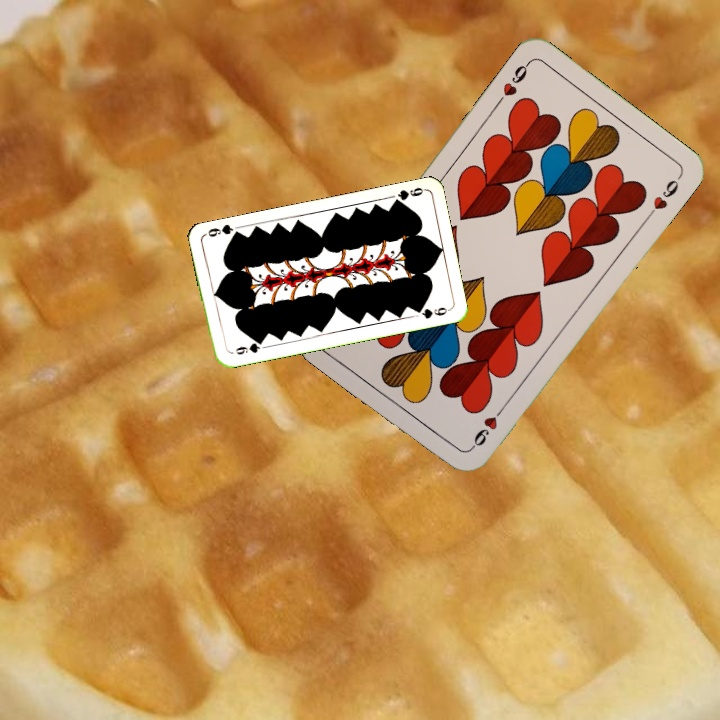G9: (388, 183, 427, 207), (226, 337, 265, 357)
H9: (466, 402, 508, 452), (492, 57, 533, 108)
